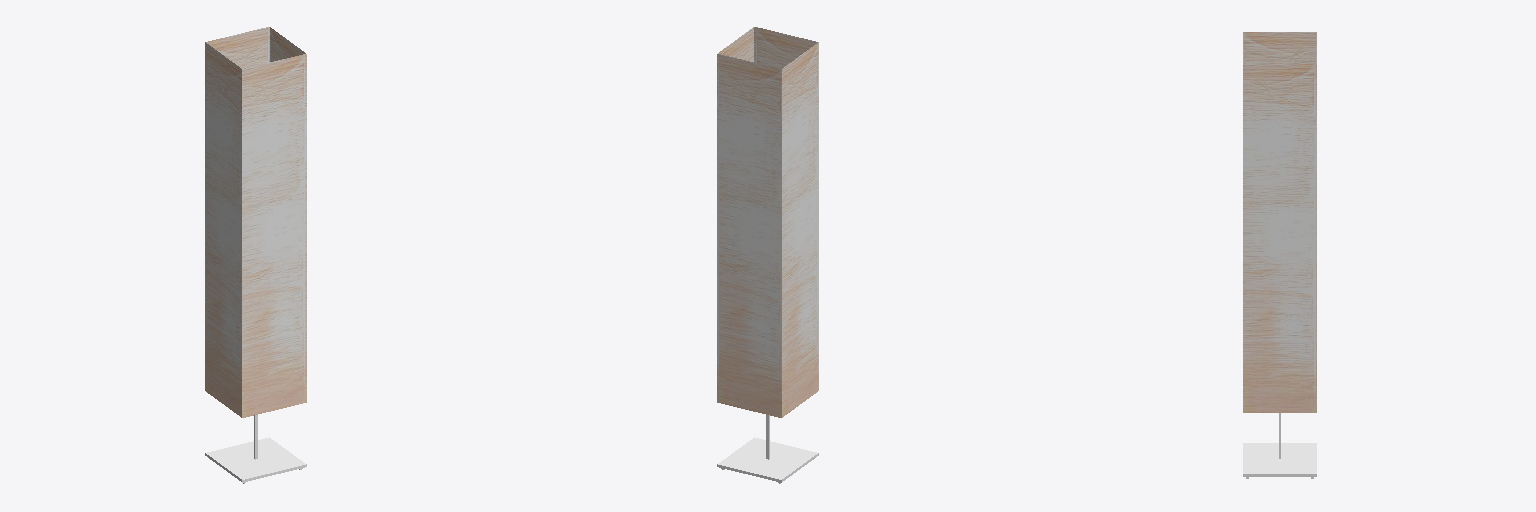
The picture shows the model from 3 angles: view 1: azimuth 30°, elevation 25°; view 2: azimuth 150°, elevation 25°; view 3: azimuth 270°, elevation 25°; orthographic projection.
Visible parts, largest first — view 1: Mesh1 Ikea_Orgel_Vreten_Floor_Lamp1 Model; view 2: Mesh1 Ikea_Orgel_Vreten_Floor_Lamp1 Model; view 3: Mesh1 Ikea_Orgel_Vreten_Floor_Lamp1 Model.
Boxes of the visible parts, box(x1,y1,x2,y2) form: Mesh1 Ikea_Orgel_Vreten_Floor_Lamp1 Model: box(205, 27, 306, 483); Mesh1 Ikea_Orgel_Vreten_Floor_Lamp1 Model: box(717, 27, 818, 483); Mesh1 Ikea_Orgel_Vreten_Floor_Lamp1 Model: box(1243, 32, 1316, 478).
Size of the model in its own units: 9.84 by 61.02 by 9.84.
Materials: 2 (1 with a texture image).